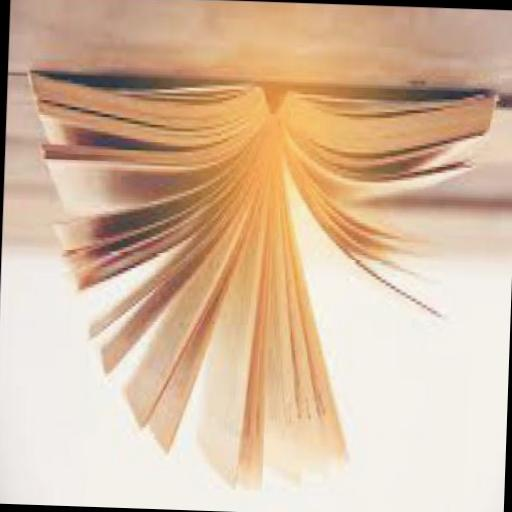paper: (13, 72, 497, 499)
